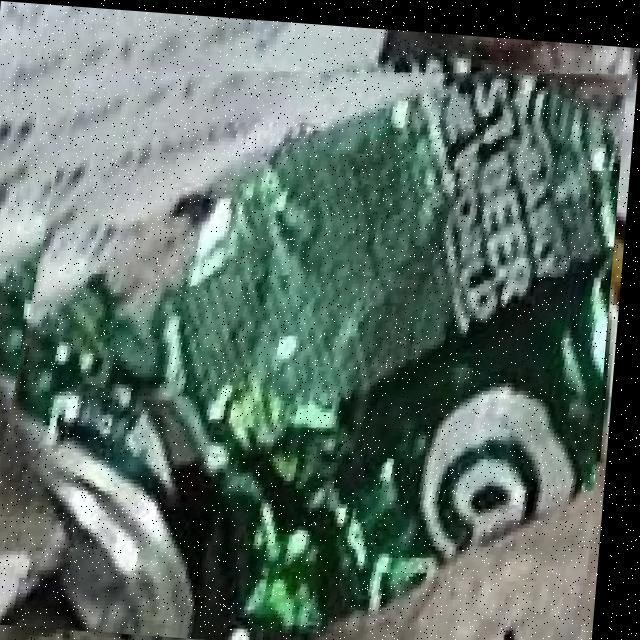litter: (9, 60, 611, 637)
